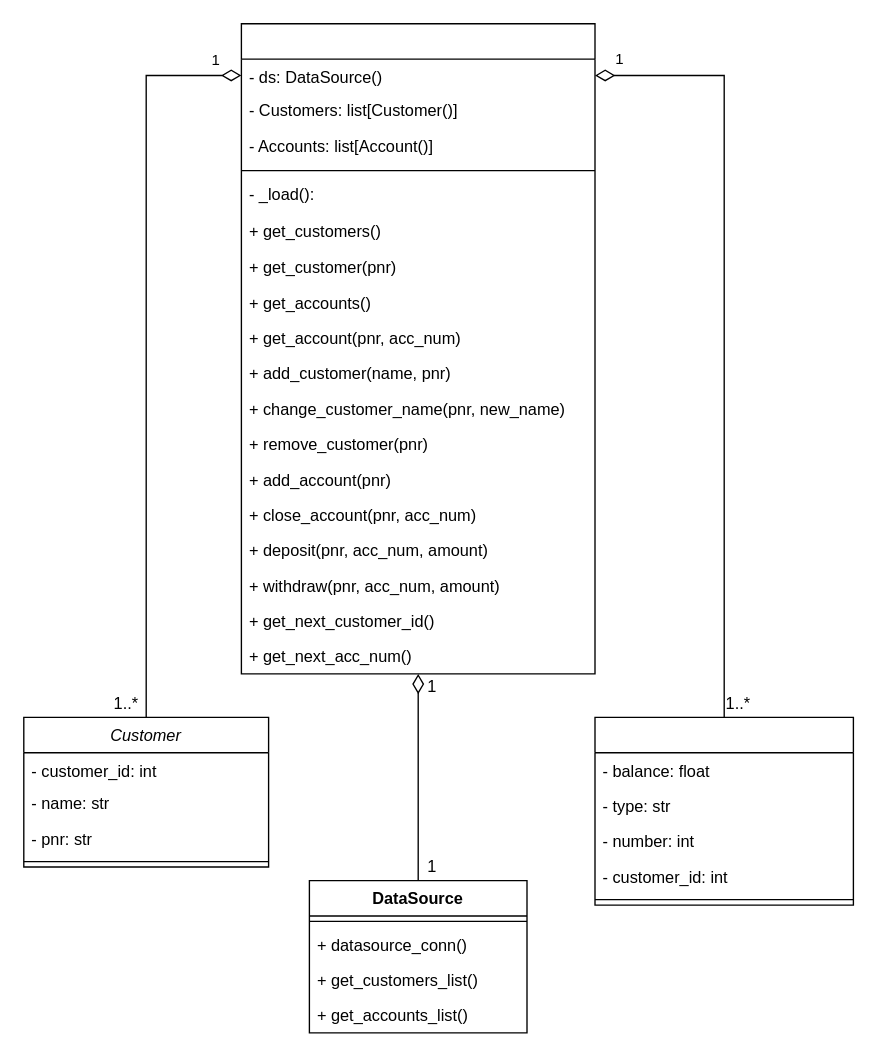
Image size: 877x1061. Some labels were removed from this diagram. Here are the shapes that lost their labels. From the top down, the box of each, then its label:
(240, 22, 595, 674): Bank
(594, 716, 853, 905): Account
